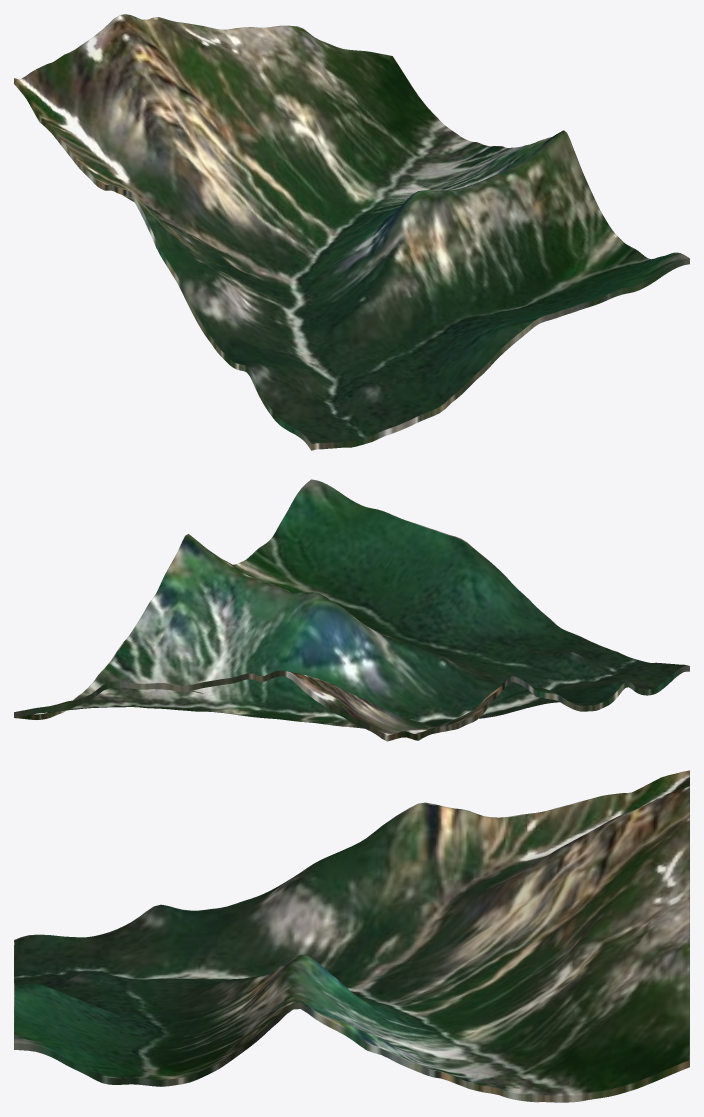
3 renders of one model, top to bottom at view 1: azimuth 30°, elevation 25°; view 2: azimuth 150°, elevation 25°; view 3: azimuth 270°, elevation 25°, orthographic. The views are drawn at different scales.
Parts seen in each view (by area): view 1: tile; view 2: tile; view 3: tile.
Part boxes in pixels (x1=…): tile: x1=14, y1=14, x2=689, y2=450; tile: x1=14, y1=479, x2=689, y2=741; tile: x1=14, y1=770, x2=689, y2=1102.
Bounding box in the file's own units: 2025 × 1017 × 2752.
Materials: 1 (1 with a texture image).
